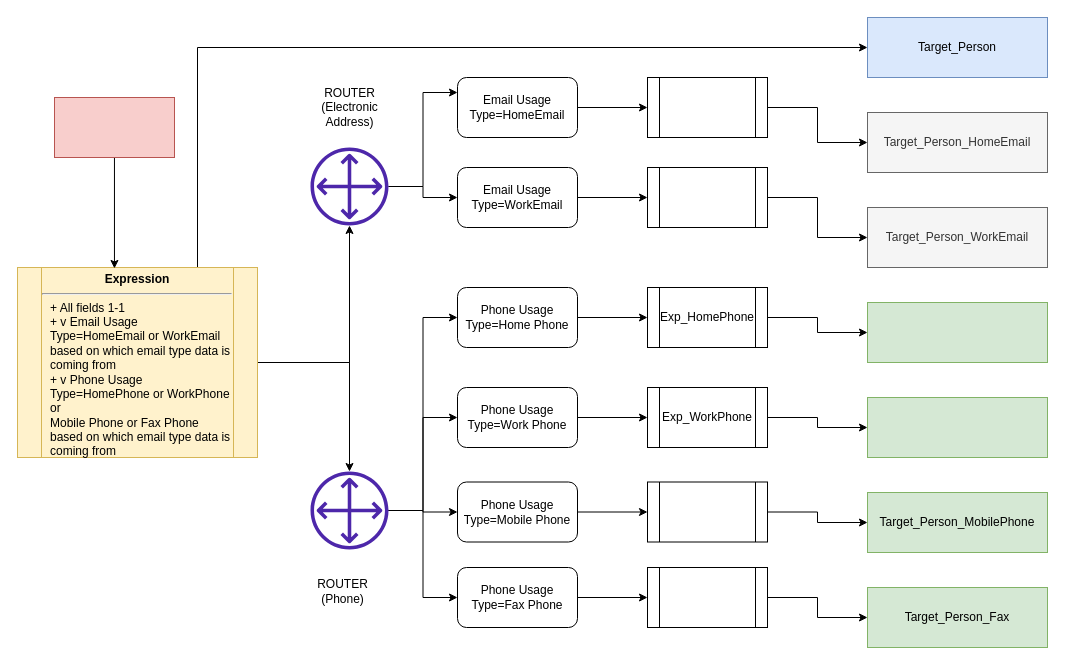
The diagram is 1065 pixels wide and 665 high, and some of its shapes have lost their labels. Here are the shapes that lost their labels. From the top down, the box of each, then its label:
(54, 96, 174, 158): Person Source file
(646, 76, 768, 138): Exp_HomeEmail
(646, 166, 768, 228): Exp_WorkEmail
(866, 302, 1048, 362): Target_Person_HomePhone
(866, 396, 1048, 458): Target_Person_WorkPhone
(646, 481, 768, 542): Exp_MobilePhone
(646, 566, 768, 628): Exp_WorkFax
